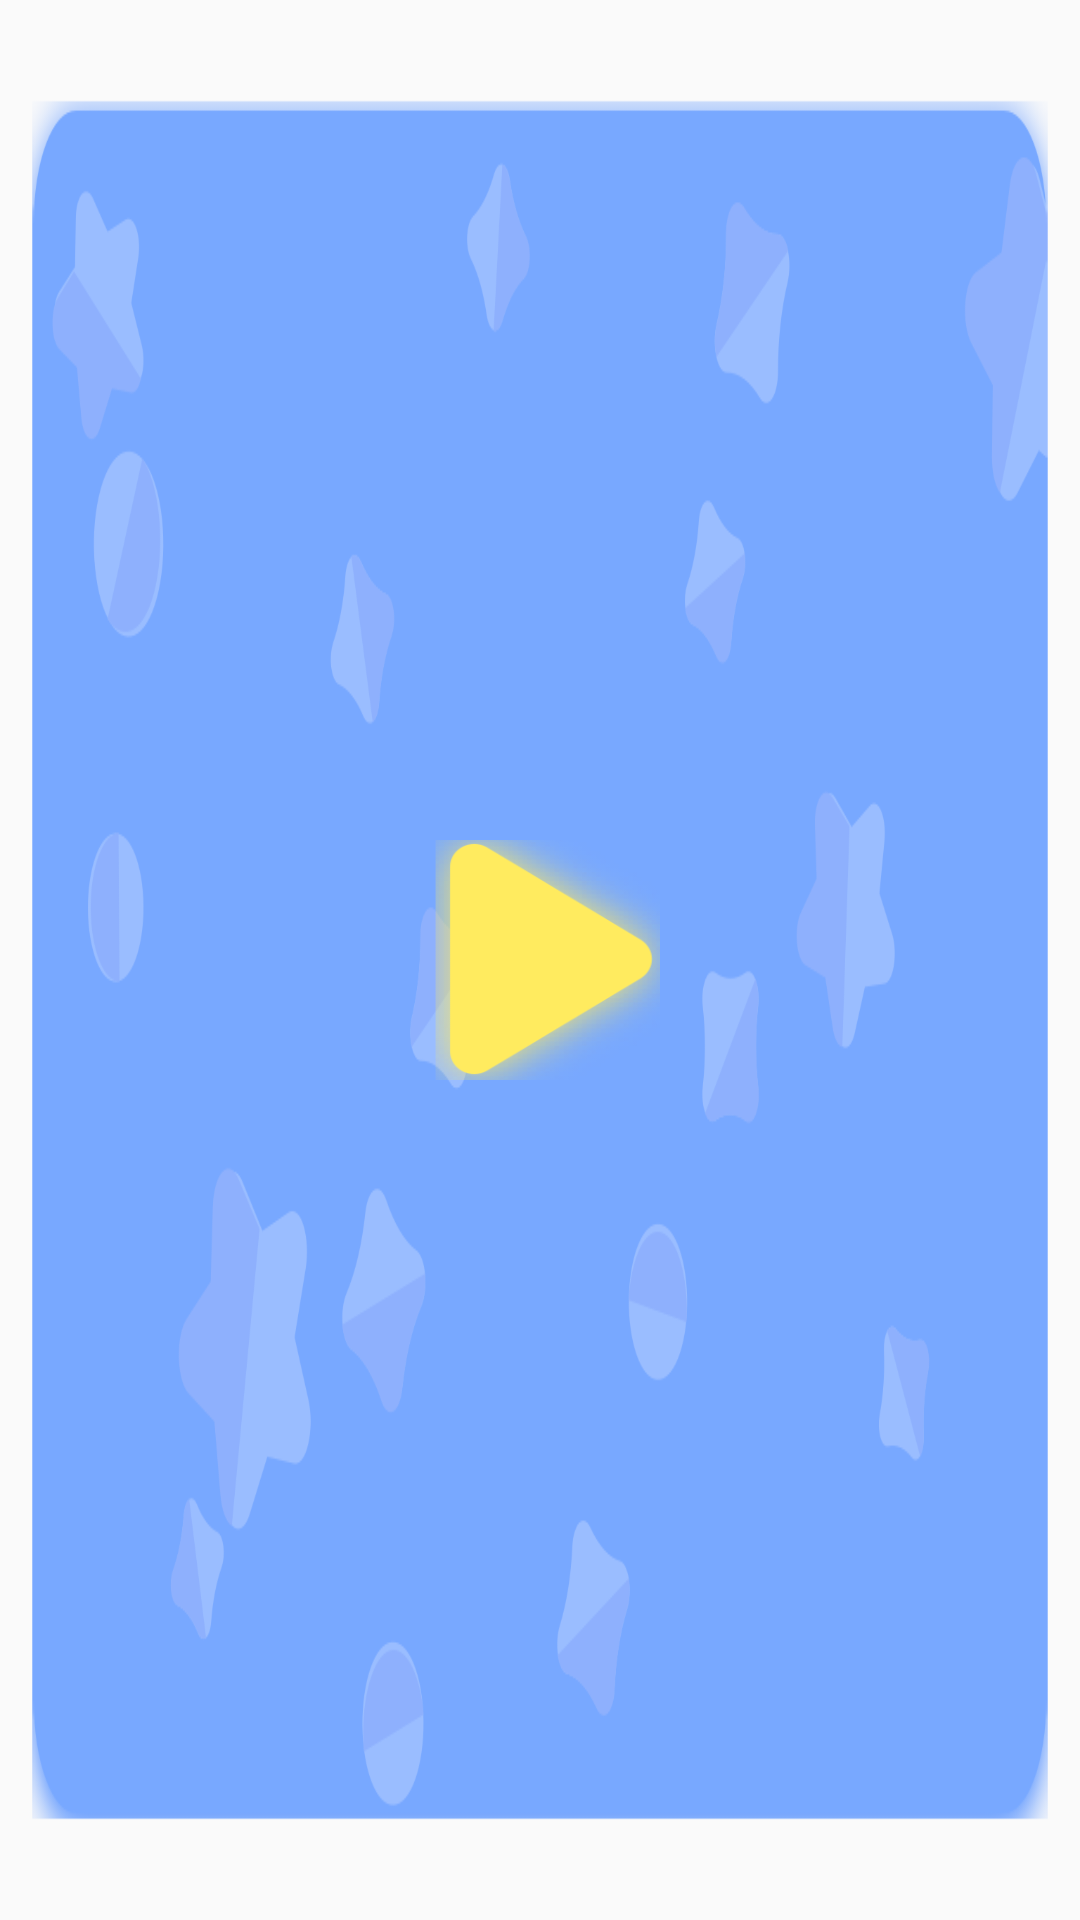

Named icons in this screenshot (1080*1920) and their bounding boxes, detection(x1, y1, x2, y2):
play: detection(420, 840, 660, 1080)
